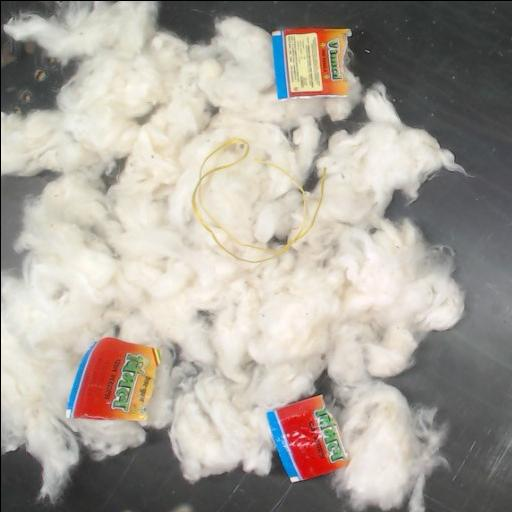conveyor belt: (159, 1, 512, 512), (1, 430, 349, 512), (1, 1, 73, 112), (1, 172, 54, 269), (322, 105, 366, 135), (305, 171, 316, 188)
cotton: (1, 1, 464, 508)
packet: (65, 337, 160, 420), (266, 394, 348, 481), (270, 28, 348, 99)
thread: (191, 137, 326, 264)
